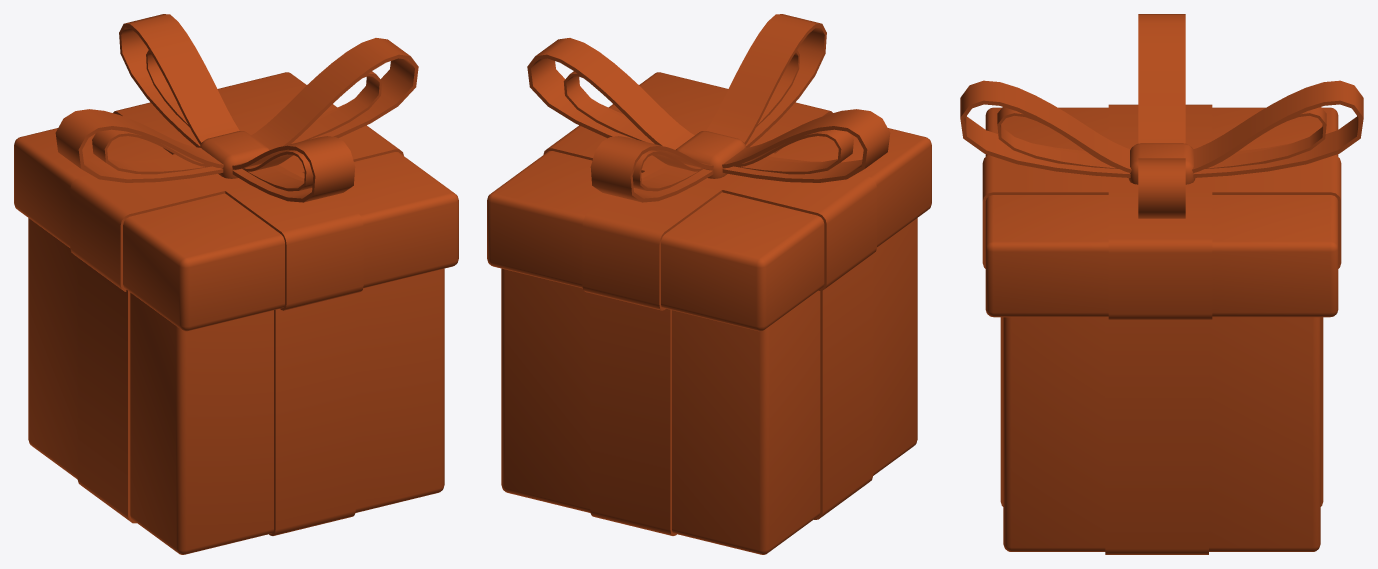
The model's file is GiftBox.fbx.
The picture shows the model from 3 angles, left to right: view 1: azimuth 30°, elevation 25°; view 2: azimuth 150°, elevation 25°; view 3: azimuth 270°, elevation 25°; orthographic projection. The views are drawn at different scales.
Parts seen in each view (by area): view 1: Gift_Box; view 2: Gift_Box; view 3: Gift_Box.
Part boxes in pixels (x1,y1,x2,y2): Gift_Box: (14, 14, 458, 554); Gift_Box: (487, 14, 931, 554); Gift_Box: (960, 14, 1363, 554).
Size of the model in its own units: 503 by 550 by 503.
